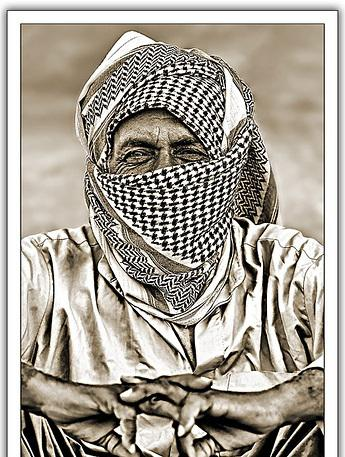OK: (102, 126, 235, 259)
